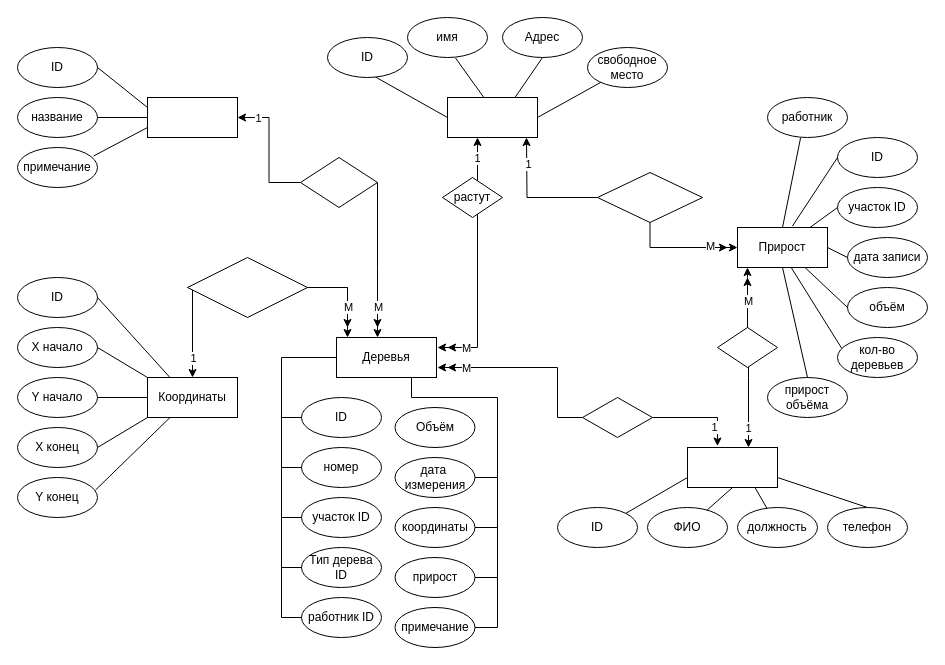
The diagram is 945 pixels wide and 665 high, and some of its shapes have lost their labels. The box of each missing label's shape, as (x1, y1, x2, y2) in pixels:
Делятся на: (300, 156, 378, 208)
Работники: (686, 446, 778, 488)
располагаются по: (186, 256, 308, 318)
сажают: (582, 396, 652, 438)
Считается на: (596, 172, 702, 222)
считают: (716, 326, 778, 368)
Тип дерева: (146, 96, 238, 138)
Участок: (446, 96, 538, 138)
